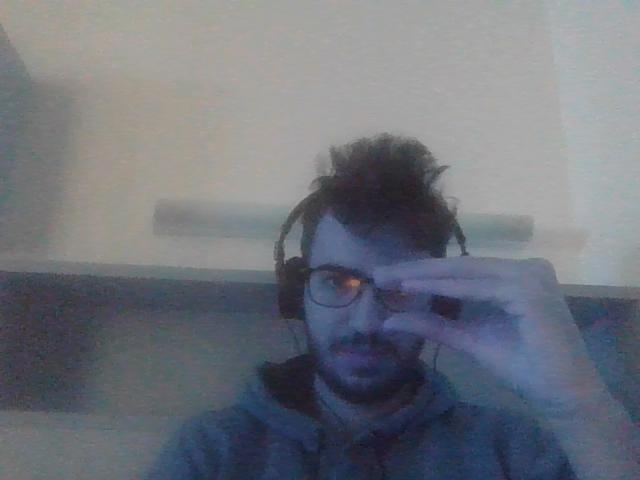no: (371, 256, 580, 384)
